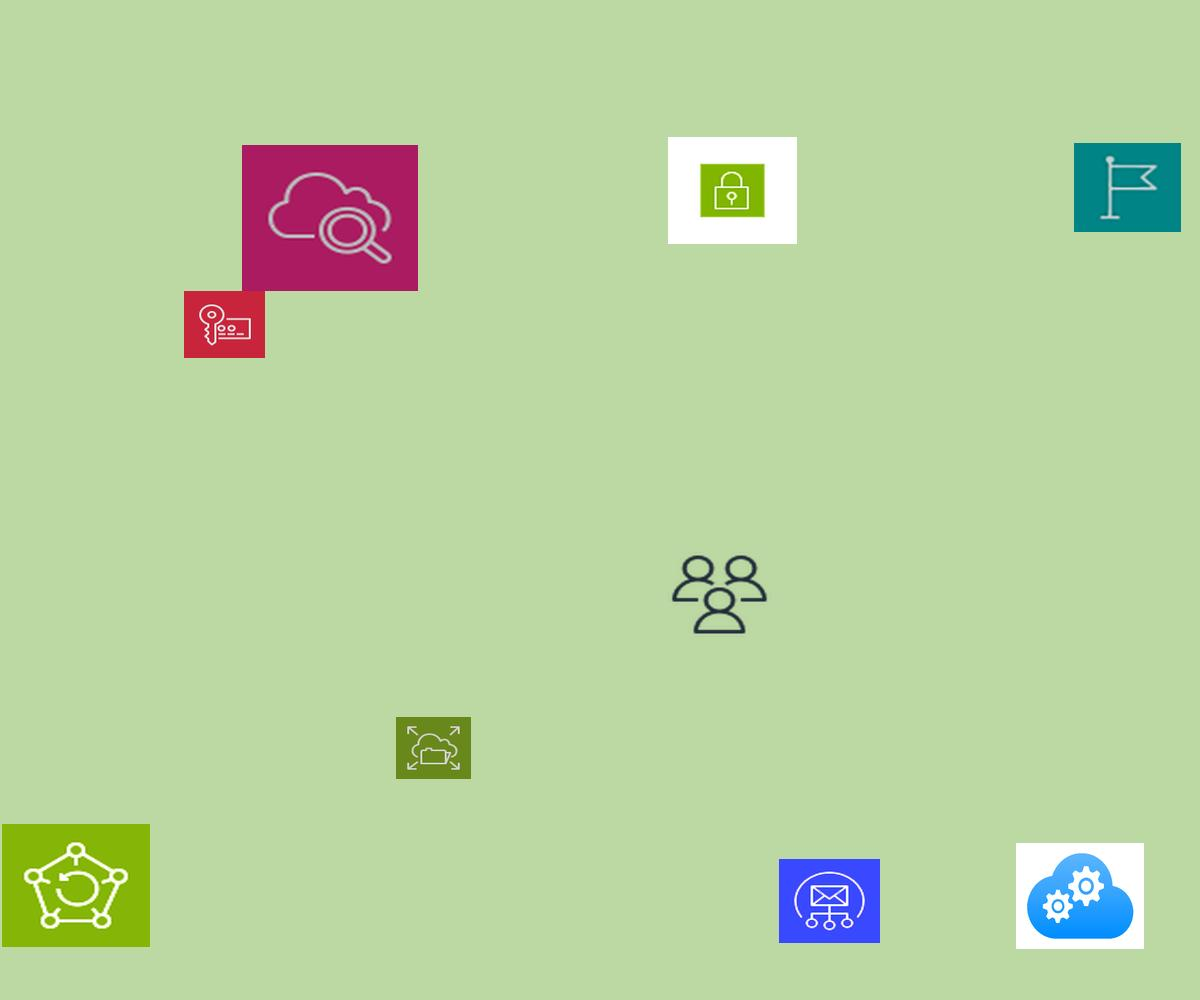AWS-Backup: (2, 824, 150, 947)
AWS-CloudWatch: (242, 145, 418, 291)
AWS-EFS: (396, 717, 471, 779)
AWS-Key-Management-Service: (184, 291, 265, 358)
AWS-Public-subnet: (668, 137, 797, 244)
AWS-Region: (1074, 143, 1181, 232)
AWS-Res_Users: (668, 552, 771, 637)
AWS-Simple-Email-Service: (779, 859, 880, 943)
Azure_cloud_services: (1016, 843, 1144, 949)
